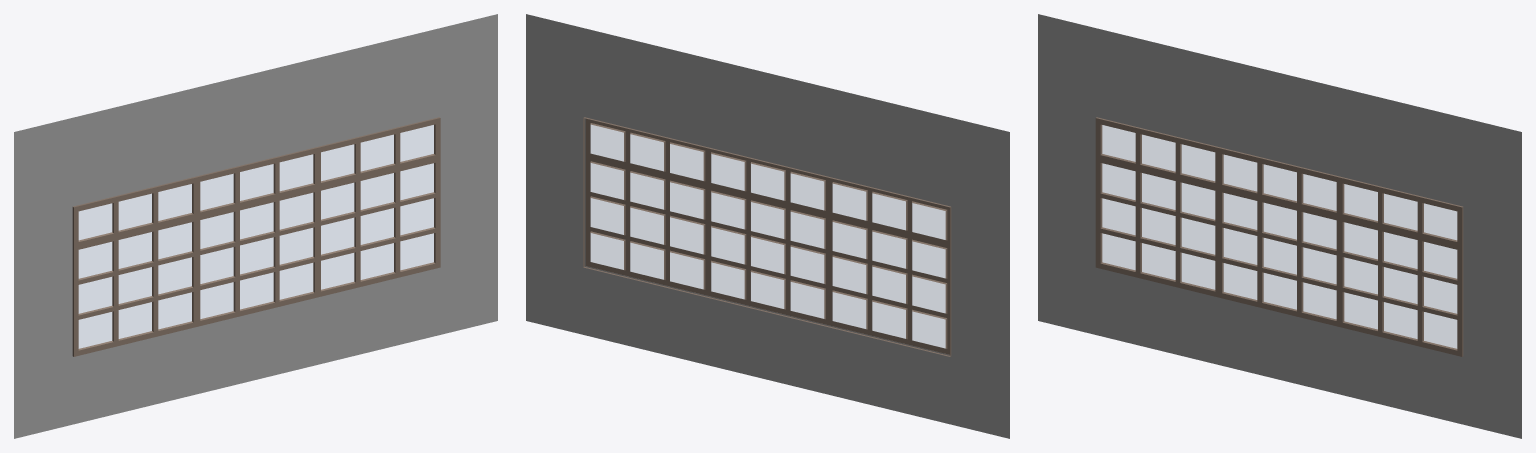
Rendered from WindowWall.fbx.
The picture shows the model from 3 angles, left to right: view 1: azimuth 30°, elevation 25°; view 2: azimuth 150°, elevation 25°; view 3: azimuth 330°, elevation 25°; orthographic projection.
Parts seen in each view (by area): view 1: WindowWall; view 2: WindowWall; view 3: WindowWall.
Boxes of the visible parts, <box> form: WindowWall: <box>14,14,497,438</box>; WindowWall: <box>526,14,1009,438</box>; WindowWall: <box>1038,14,1521,438</box>.
Bounding box in the file's own units: 660 × 400 × 5.1.
